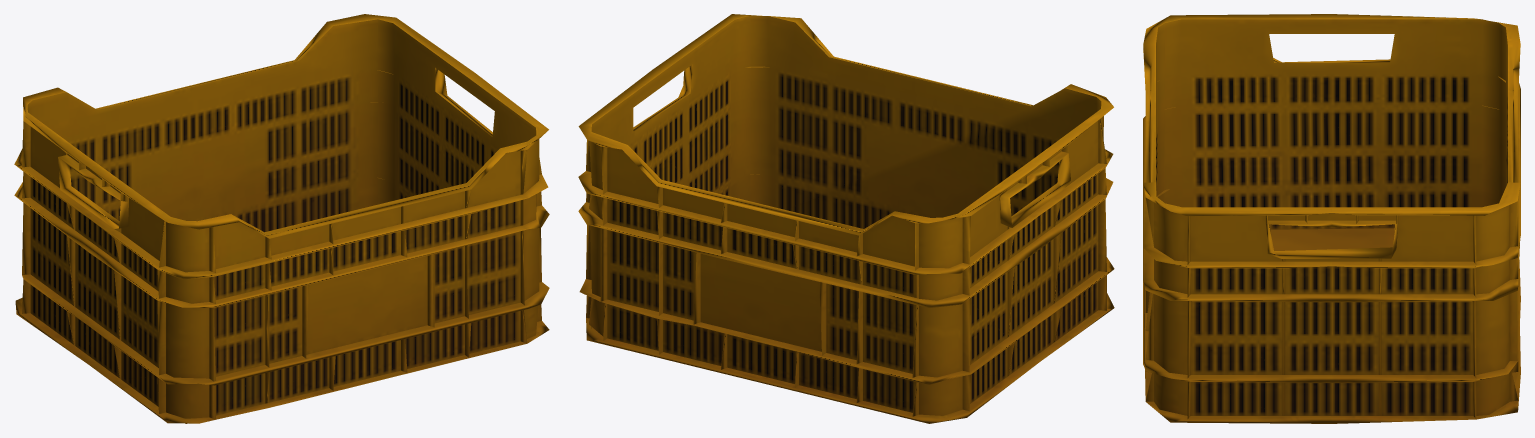
File: cassetta.glb
3 renders of one model, left to right at view 1: azimuth 30°, elevation 25°; view 2: azimuth 150°, elevation 25°; view 3: azimuth 270°, elevation 25°, orthographic. The views are drawn at different scales.
Parts seen in each view (by area): view 1: plastic_crate_02; view 2: plastic_crate_02; view 3: plastic_crate_02.
Part boxes in pixels (bbox=[...]): plastic_crate_02: bbox=[14, 14, 549, 423]; plastic_crate_02: bbox=[578, 14, 1114, 423]; plastic_crate_02: bbox=[1143, 14, 1520, 423].
Bounding box in the file's own units: 0.5055 × 0.2541 × 0.4055.
1 material, 1 textured.
